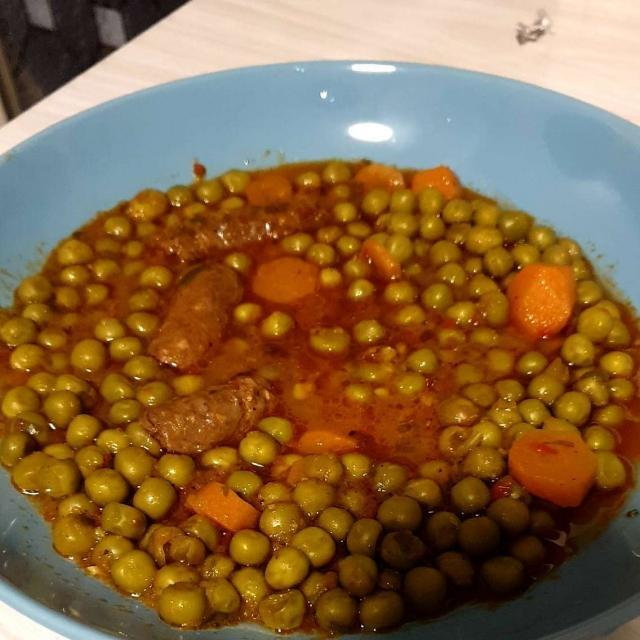peas: (9, 179, 625, 624)
tomato-sauce: (14, 160, 617, 632)
